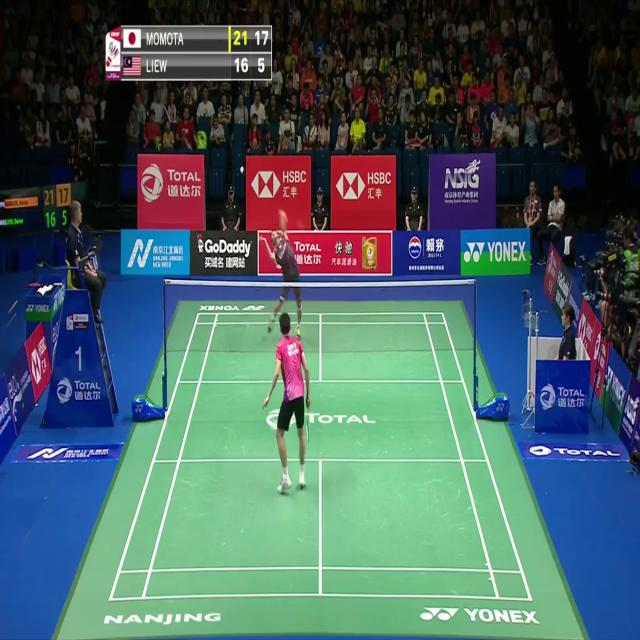Shuttlecock: (238, 163, 245, 175)
